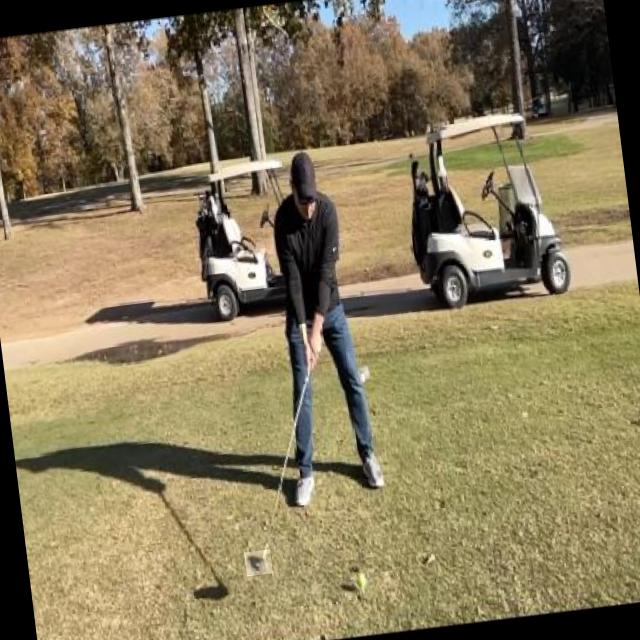club head: (244, 549, 272, 576)
